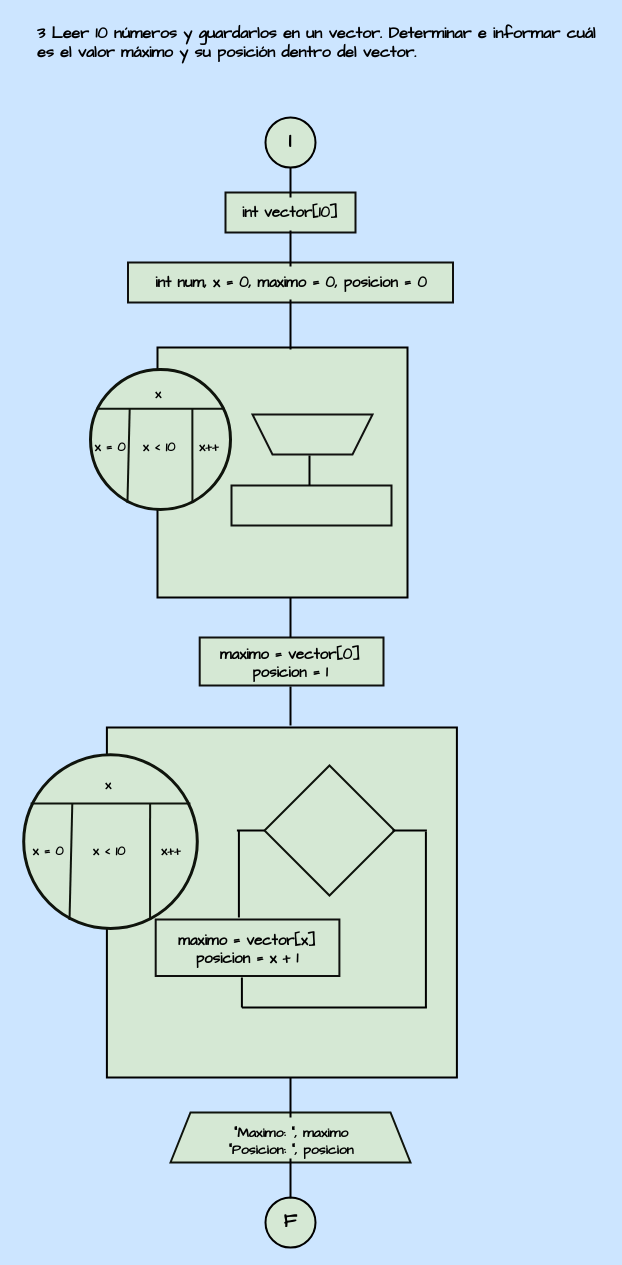
Image size: 622x1265. Some labels were removed from this diagram. Here are the shapes that lost their labels. From the top down, the centre of each, then its label:
At pixel 312 434: "num".
At pixel 311 505: "vector[10] = num".
At pixel 329 830: "vector[x] > maximo".
